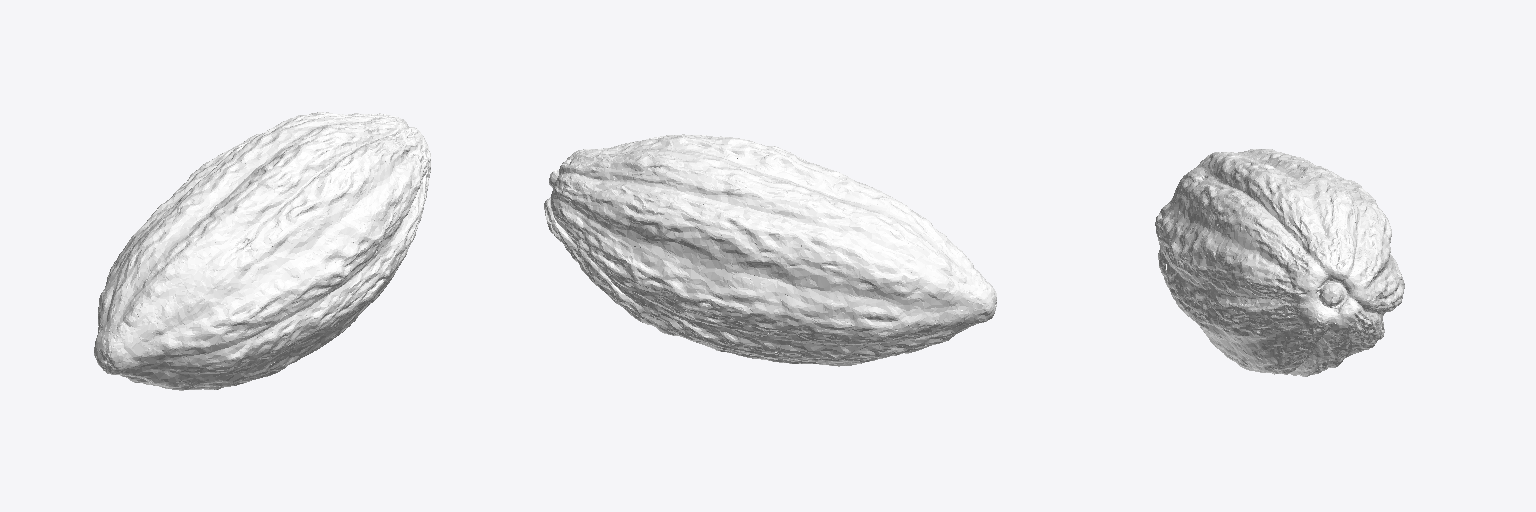
Rendered from Cocoa-pod-whole-LORES.obj.
The picture shows the model from 3 angles: view 1: azimuth 30°, elevation 25°; view 2: azimuth 150°, elevation 25°; view 3: azimuth 270°, elevation 25°; orthographic projection.
Size of the model in its own units: 196 by 102 by 110.